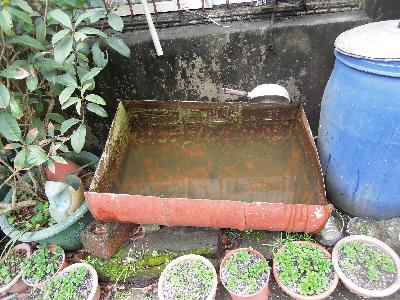bowl: (249, 82, 291, 104)
box: (83, 97, 334, 237)
bucket: (317, 45, 400, 219)
